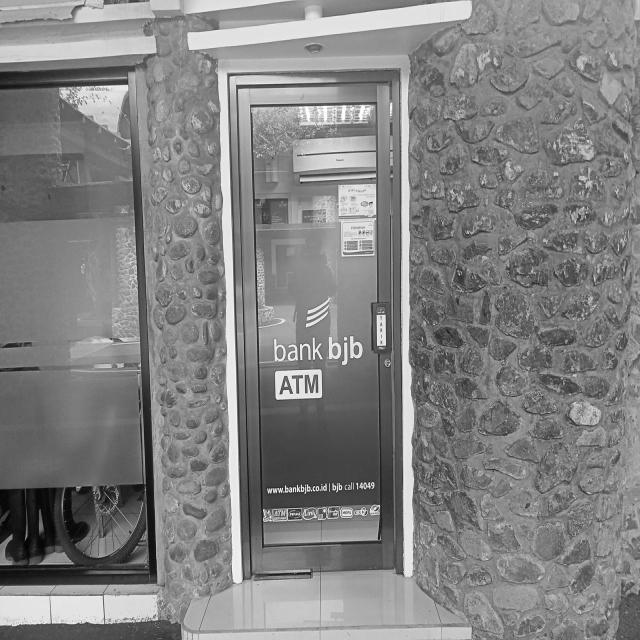door: (230, 72, 406, 578)
